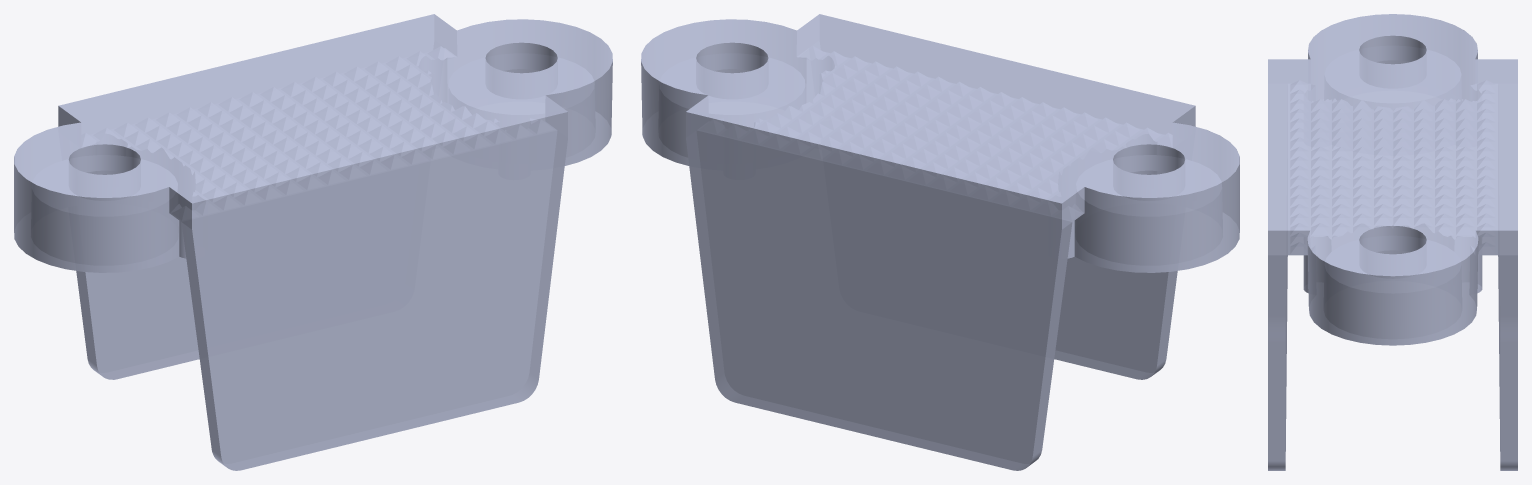
Rendered from Lane Guide (03-8318-25).fbx.
3 renders of one model, left to right at view 1: azimuth 30°, elevation 25°; view 2: azimuth 150°, elevation 25°; view 3: azimuth 270°, elevation 25°, orthographic. The views are drawn at different scales.
Parts seen in each view (by area): view 1: Lane Guide (03-8318-25); view 2: Lane Guide (03-8318-25); view 3: Lane Guide (03-8318-25).
Boxes of the visible parts, box(x1,y1,x2,y2) form: Lane Guide (03-8318-25): box(14, 14, 612, 470); Lane Guide (03-8318-25): box(641, 14, 1239, 470); Lane Guide (03-8318-25): box(1268, 14, 1517, 470).
Size of the model in its own units: 4.37 by 2.02 by 1.76.
